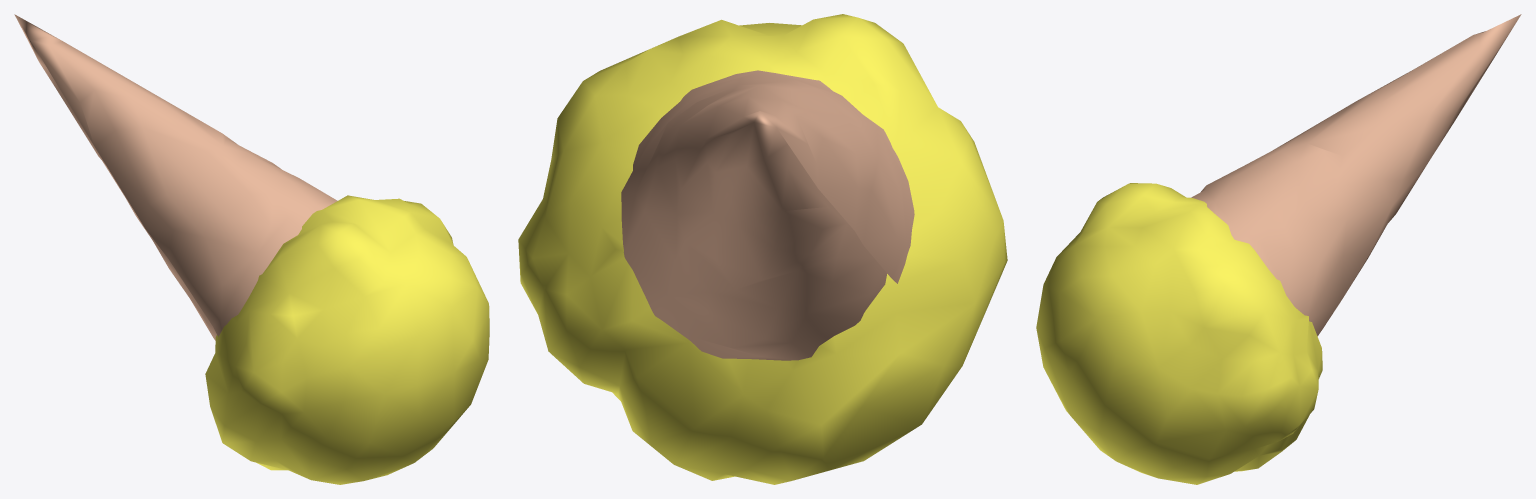
Rendered from cono_LOD1.fbx.
3 renders of one model, left to right at view 1: azimuth 30°, elevation 25°; view 2: azimuth 150°, elevation 25°; view 3: azimuth 270°, elevation 25°, orthographic. The views are drawn at different scales.
Visible parts, largest first — view 1: cono; view 2: cono; view 3: cono.
Part boxes in pixels (bbox=[...]): cono: bbox=[14, 14, 489, 484]; cono: bbox=[518, 14, 1007, 484]; cono: bbox=[1036, 14, 1521, 484].
Bounding box in the file's own units: 50.98 × 63.68 × 74.26.
